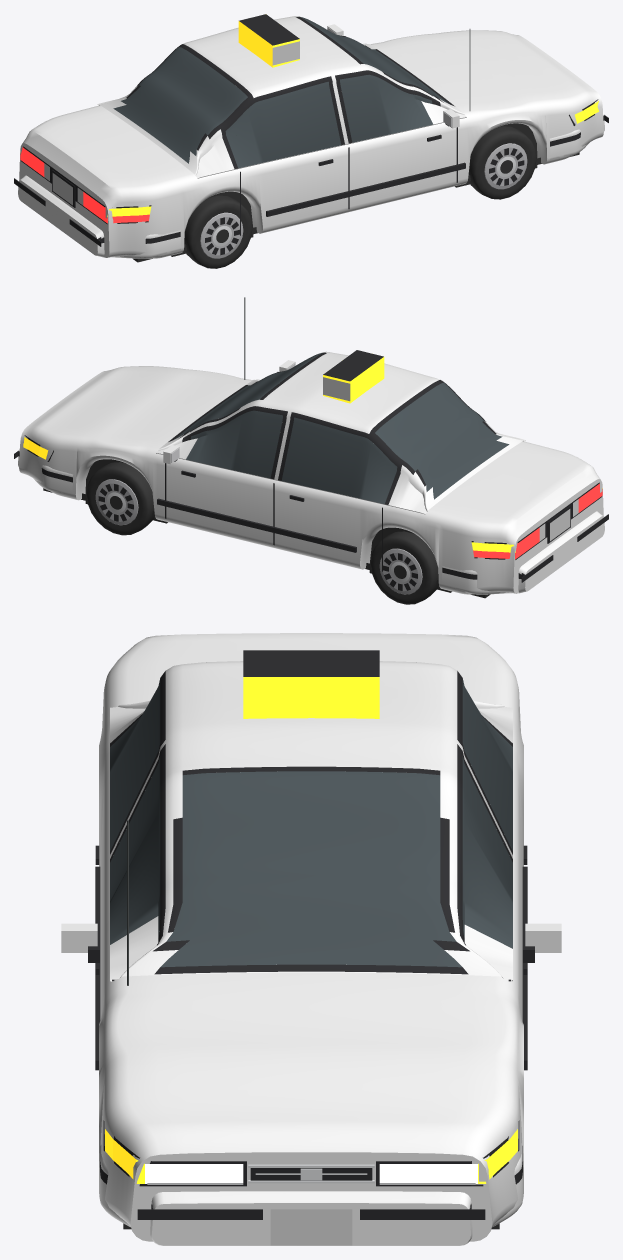
File: car_taxi.glb
The picture shows the model from 3 angles, top to bottom: view 1: azimuth 30°, elevation 25°; view 2: azimuth 150°, elevation 25°; view 3: azimuth 270°, elevation 25°; orthographic projection. The views are drawn at different scales.
Visible parts, largest first — view 1: body, wheel_FR, wheel_RR; view 2: body, wheel_FL, wheel_RL; view 3: body.
Boxes of the visible parts, left/top/right/bottom form: body: left=14, top=14, right=608, bottom=262; wheel_FR: left=468, top=126, right=536, bottom=199; wheel_RR: left=184, top=195, right=252, bottom=268; body: left=14, top=297, right=608, bottom=598; wheel_FL: left=86, top=462, right=154, bottom=535; wheel_RL: left=370, top=531, right=438, bottom=604; body: left=61, top=633, right=561, bottom=1245.
Size of the model in its own units: 4.83 by 1.61 by 2.06.
